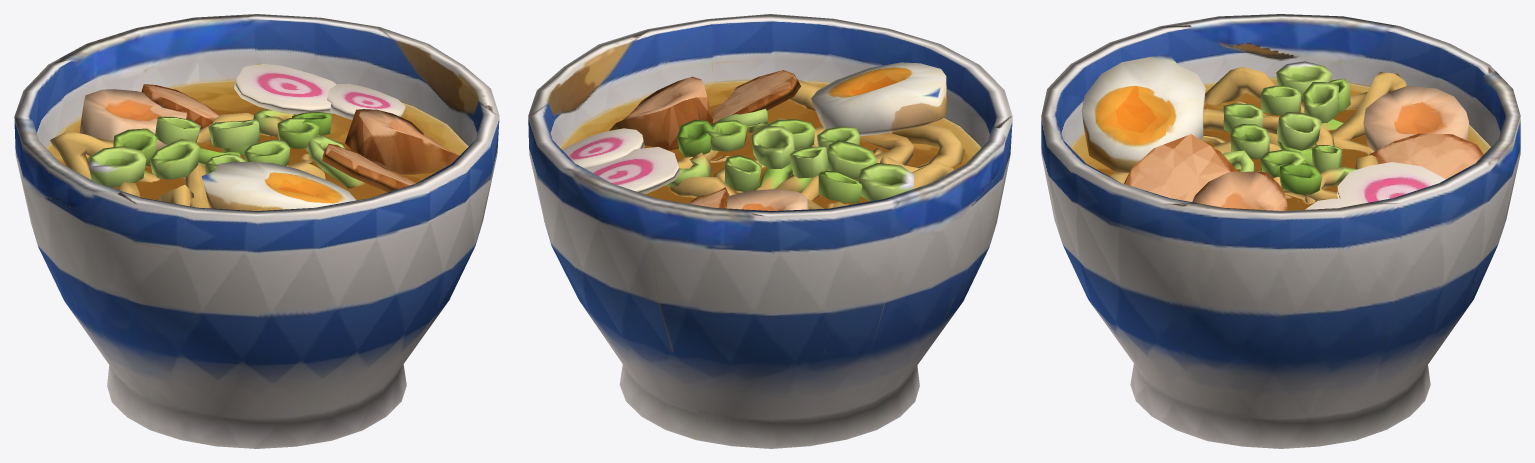
The model's file is Meshy_AI_Low_Poly_Ramen_Bowl_0919193438_texture.glb.
3 renders of one model, left to right at view 1: azimuth 30°, elevation 25°; view 2: azimuth 150°, elevation 25°; view 3: azimuth 270°, elevation 25°, orthographic.
Visible parts, largest first — view 1: Mesh_0; view 2: Mesh_0; view 3: Mesh_0.
Boxes of the visible parts, left/top/right/bottom form: Mesh_0: left=14, top=14, right=499, bottom=448; Mesh_0: left=528, top=14, right=1012, bottom=448; Mesh_0: left=1041, top=14, right=1520, bottom=448.
Bounding box in the file's own units: 1 × 0.6406 × 1.
1 material, 1 textured.
